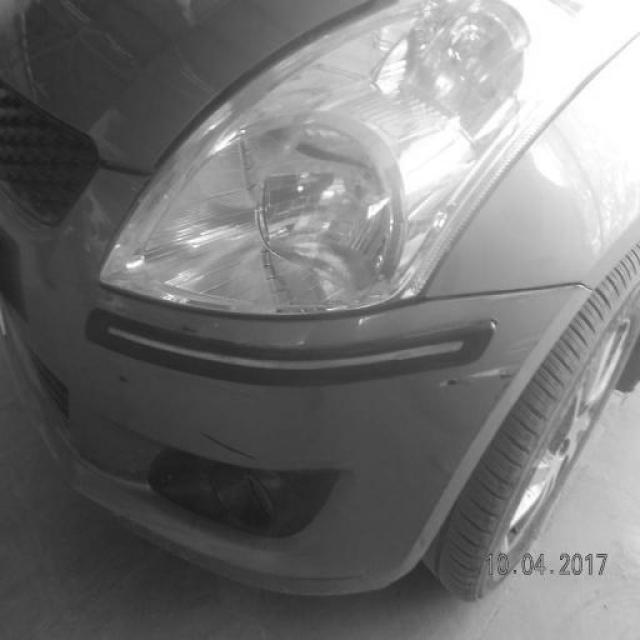scratch: (434, 366, 521, 393), (201, 431, 265, 464)
